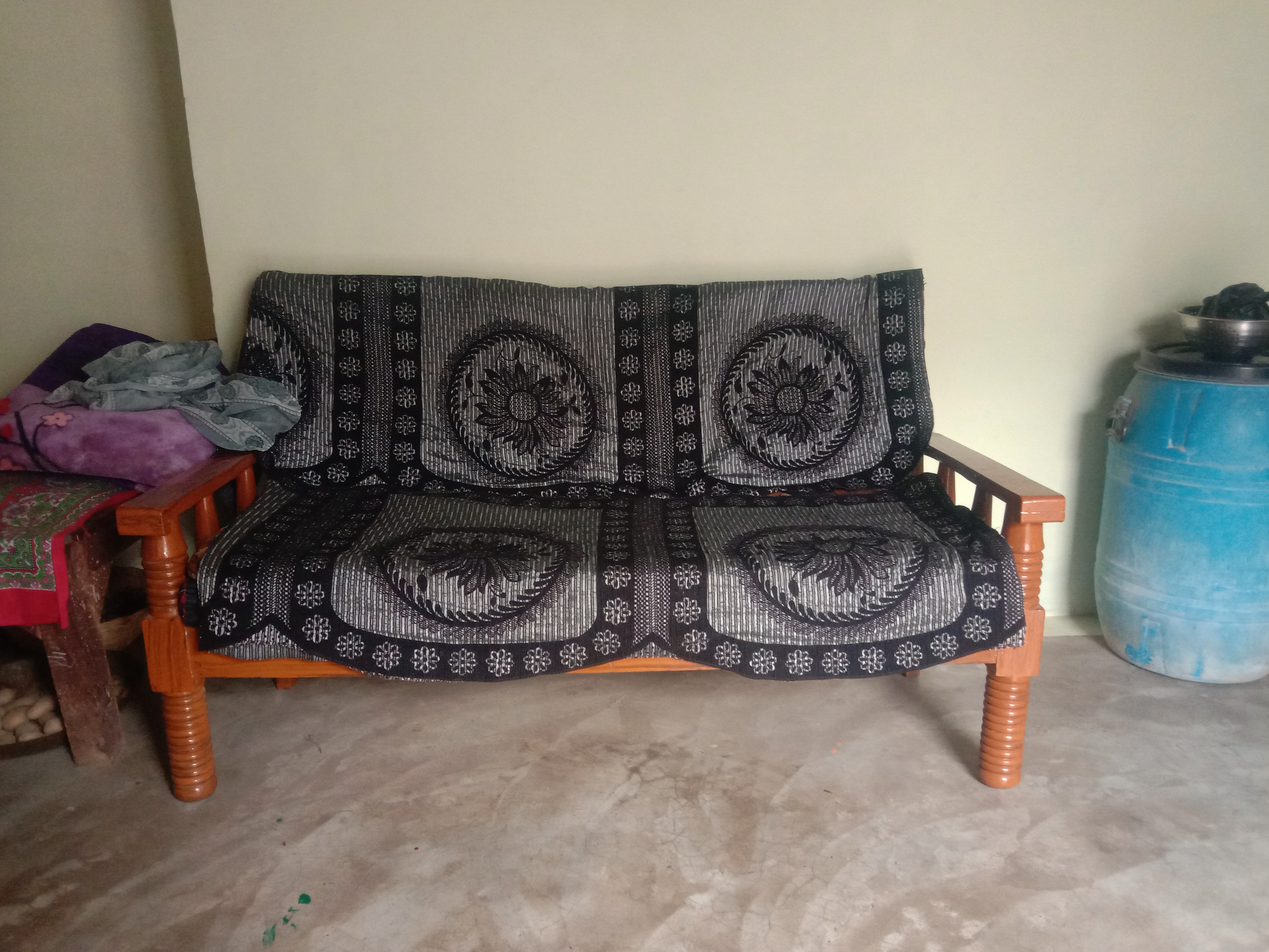sofa: (111, 274, 1069, 802)
